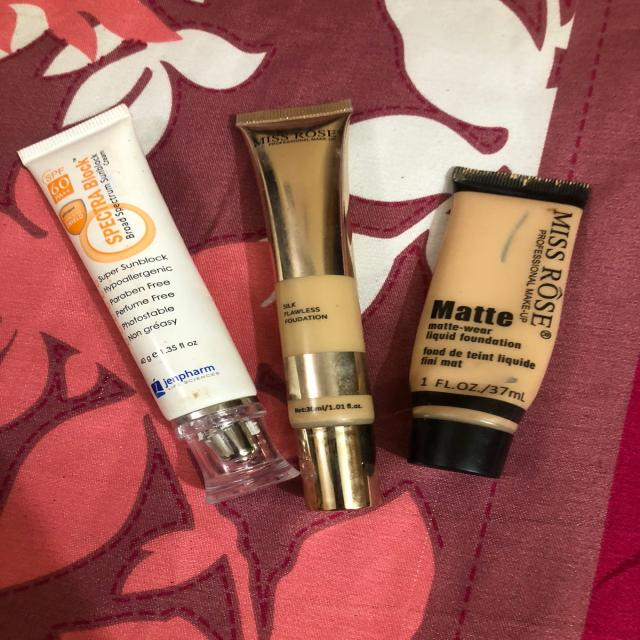foundation: (403, 160, 596, 483), (255, 93, 392, 516)
sun block: (7, 98, 298, 511)
